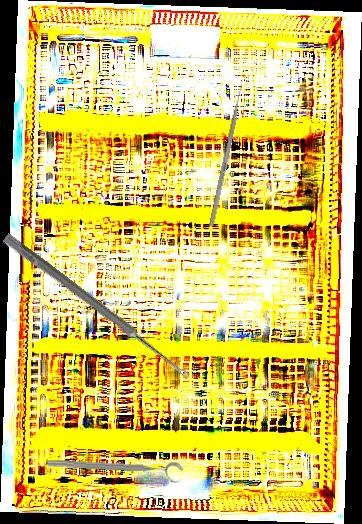Fixation Ring: (45, 455, 184, 485)
Pusher: (208, 78, 246, 227)
Surgical Spoon: (1, 232, 193, 382)
